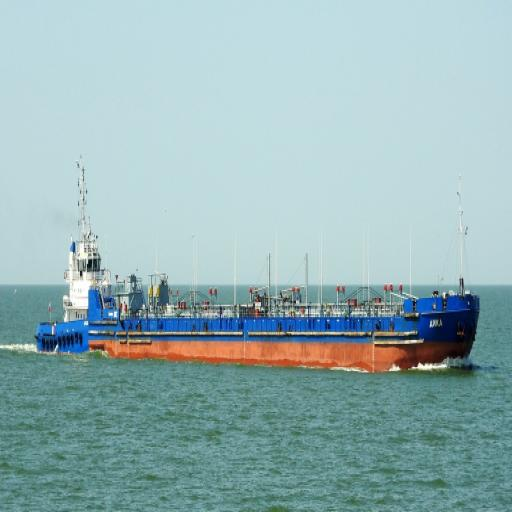tugboat: (34, 158, 128, 375)
